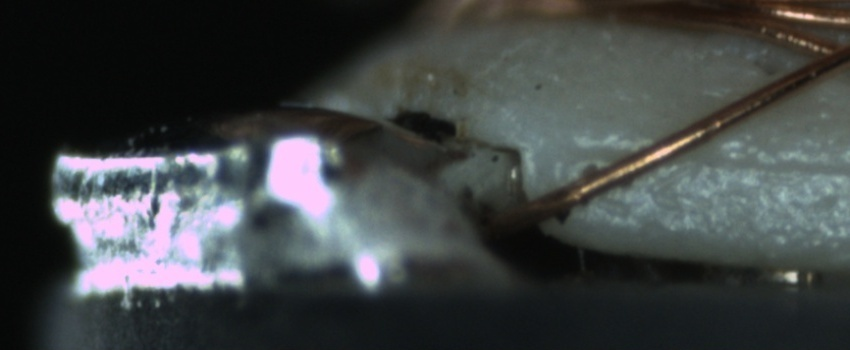CL: (784, 26, 846, 86)
DL: (571, 125, 845, 190)
